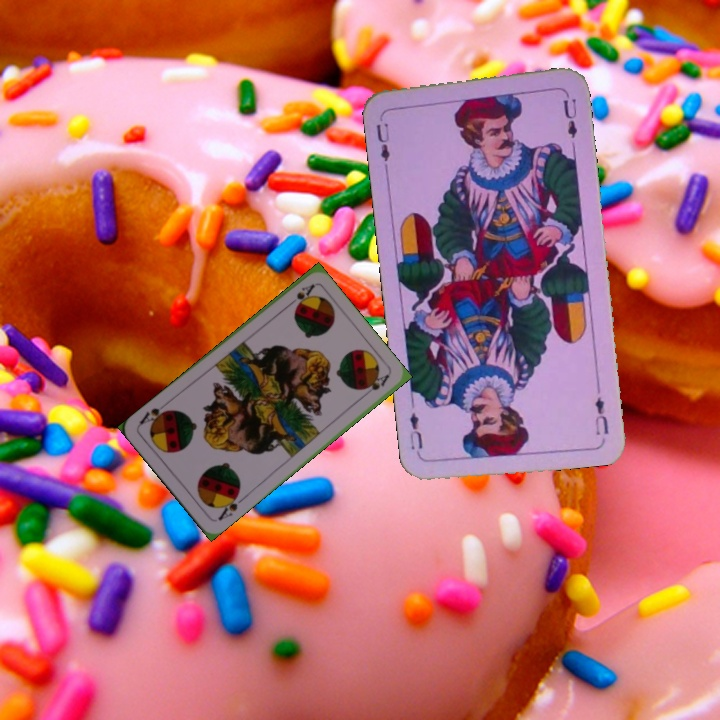EU: (372, 119, 392, 171), (590, 393, 611, 438)
SA: (214, 488, 247, 523), (282, 280, 317, 310)
